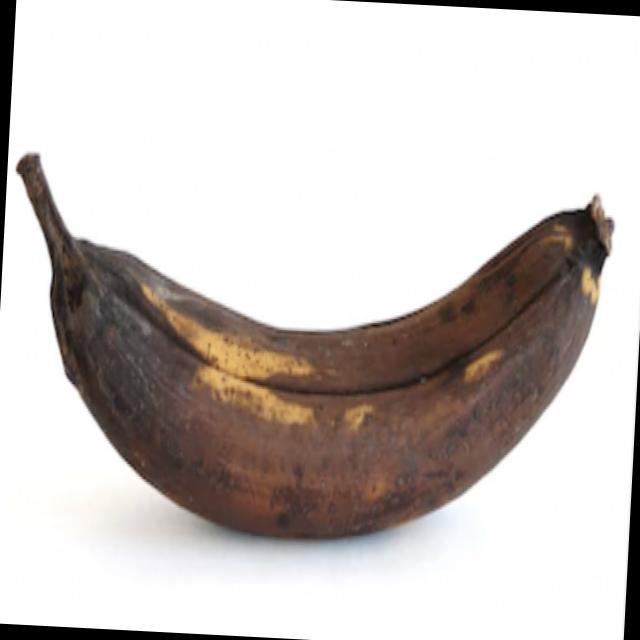rotten-banana: (0, 145, 623, 563)
